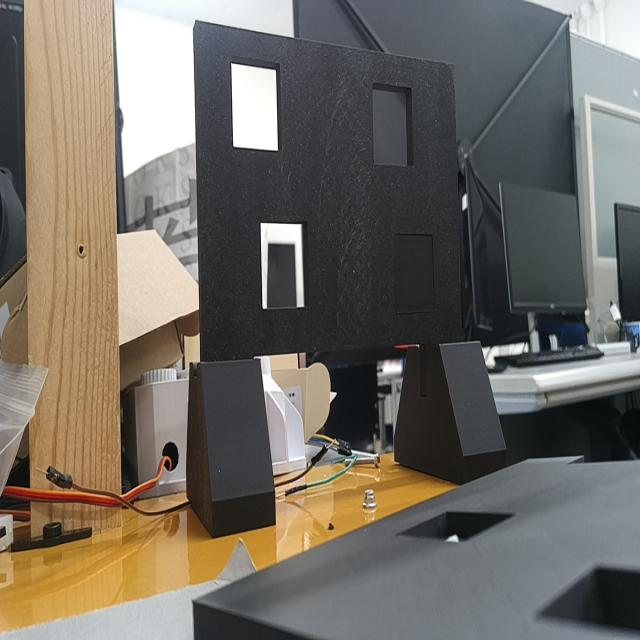Obstacle: (232, 56, 283, 153), (261, 220, 308, 311), (372, 83, 413, 168)
Wall: (194, 20, 460, 359)
